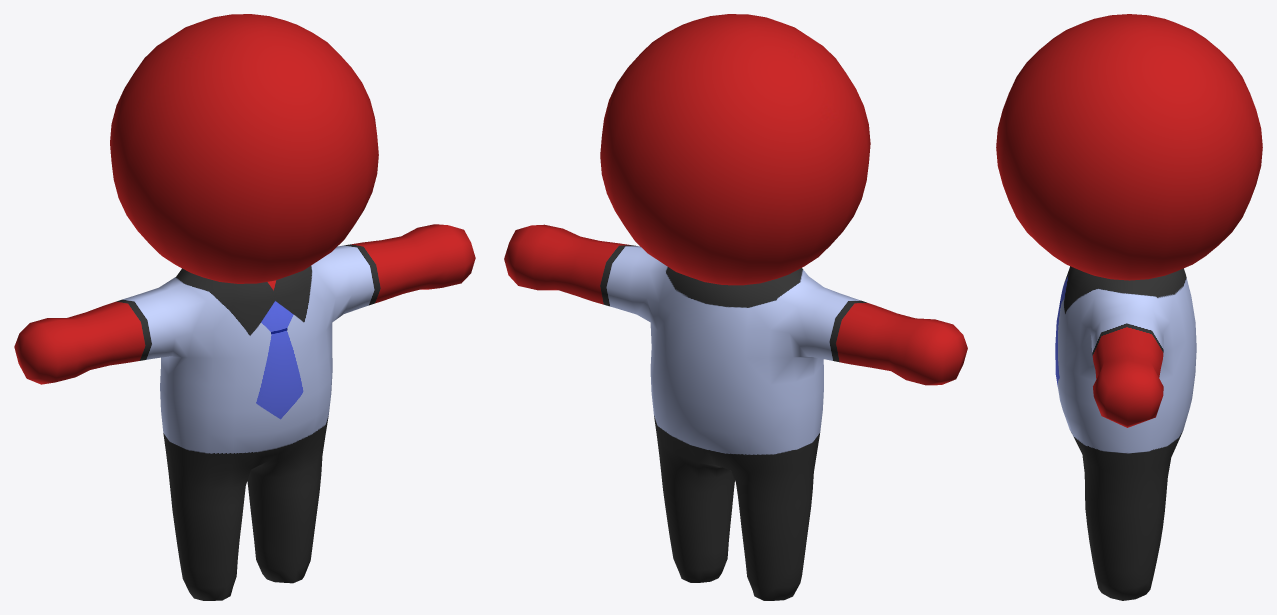
File: nhan vien 1.fbx
3 renders of one model, left to right at view 1: azimuth 30°, elevation 25°; view 2: azimuth 150°, elevation 25°; view 3: azimuth 270°, elevation 25°, orthographic.
Visible parts, largest first — view 1: nhan_vien1; view 2: nhan_vien1; view 3: nhan_vien1.
Part boxes in pixels (left/top/right/bottom): nhan_vien1: left=14, top=14, right=475, bottom=600; nhan_vien1: left=504, top=14, right=967, bottom=600; nhan_vien1: left=996, top=14, right=1262, bottom=600.
Size of the model in its own units: 225 by 268 by 117.
